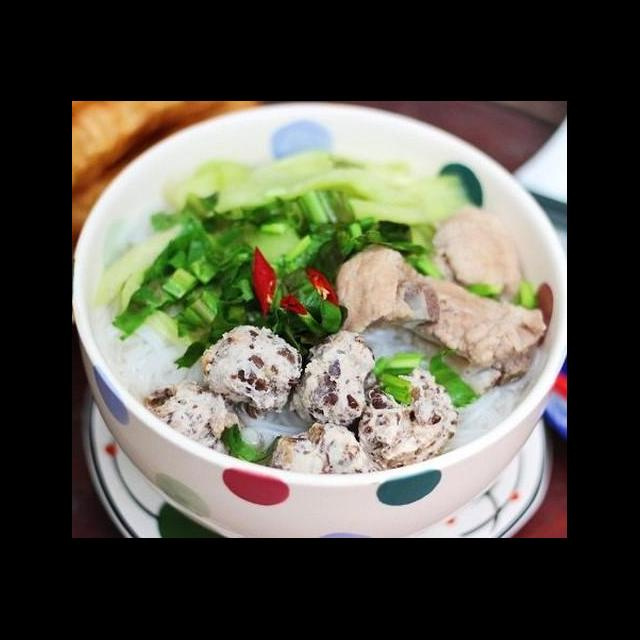bun: (96, 302, 208, 402)
bun moc: (88, 127, 553, 495)
thit heo: (324, 236, 550, 398)
vien moc: (353, 360, 462, 474), (194, 320, 308, 420), (287, 328, 383, 432), (260, 419, 380, 486), (142, 378, 242, 450)
